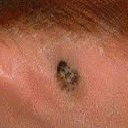Melanoma: (53, 58, 82, 91)
